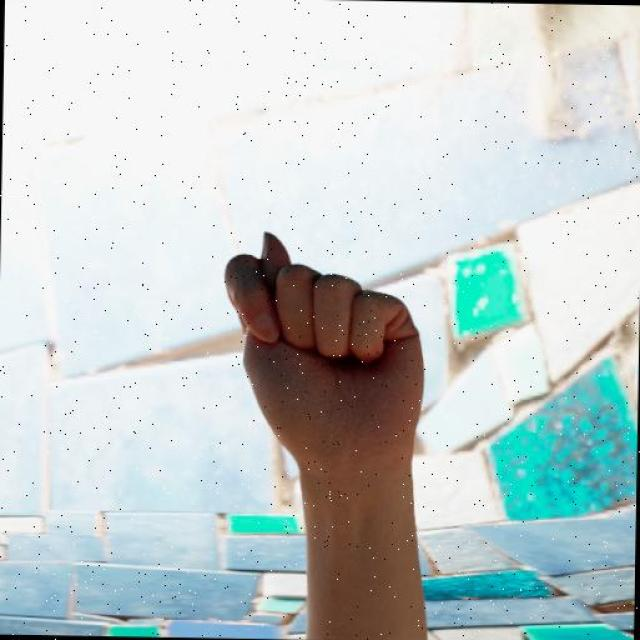T: (217, 228, 432, 474)
